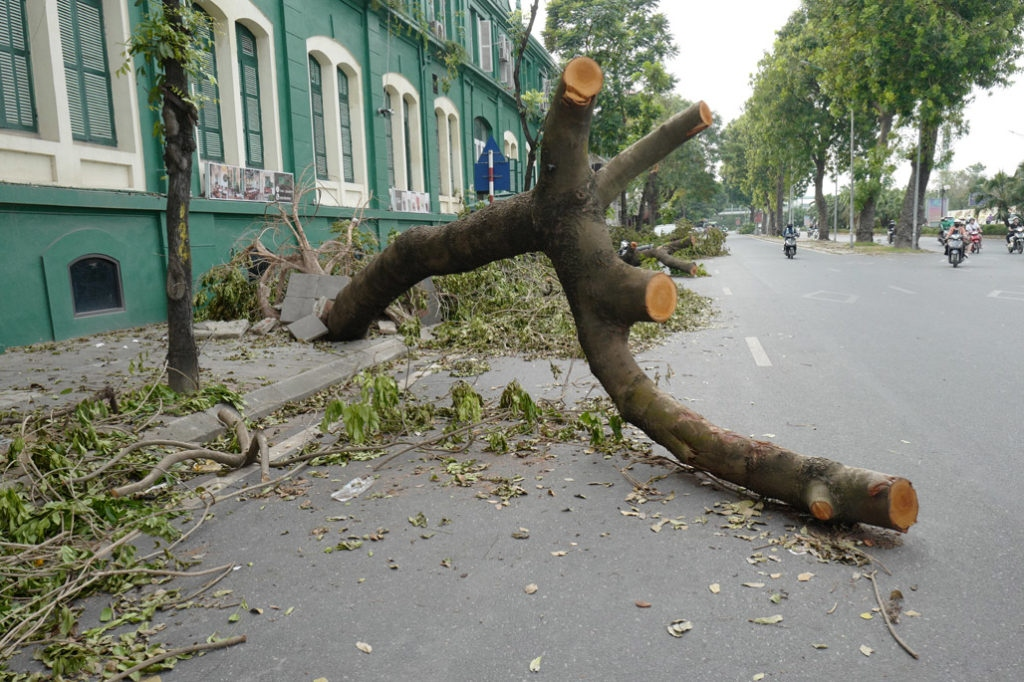ROAD_OBSTACLE: (300, 80, 900, 682)
